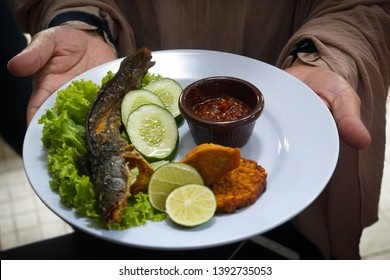pecel_lele: (88, 67, 142, 225)
